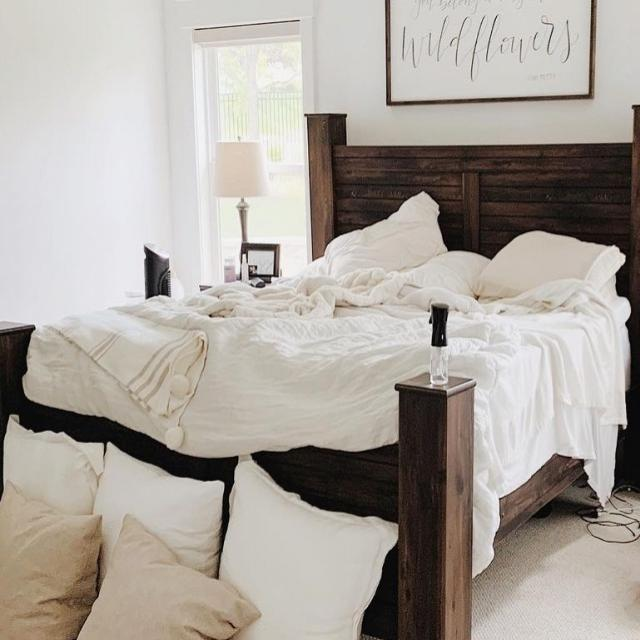bed: (7, 188, 628, 489)
